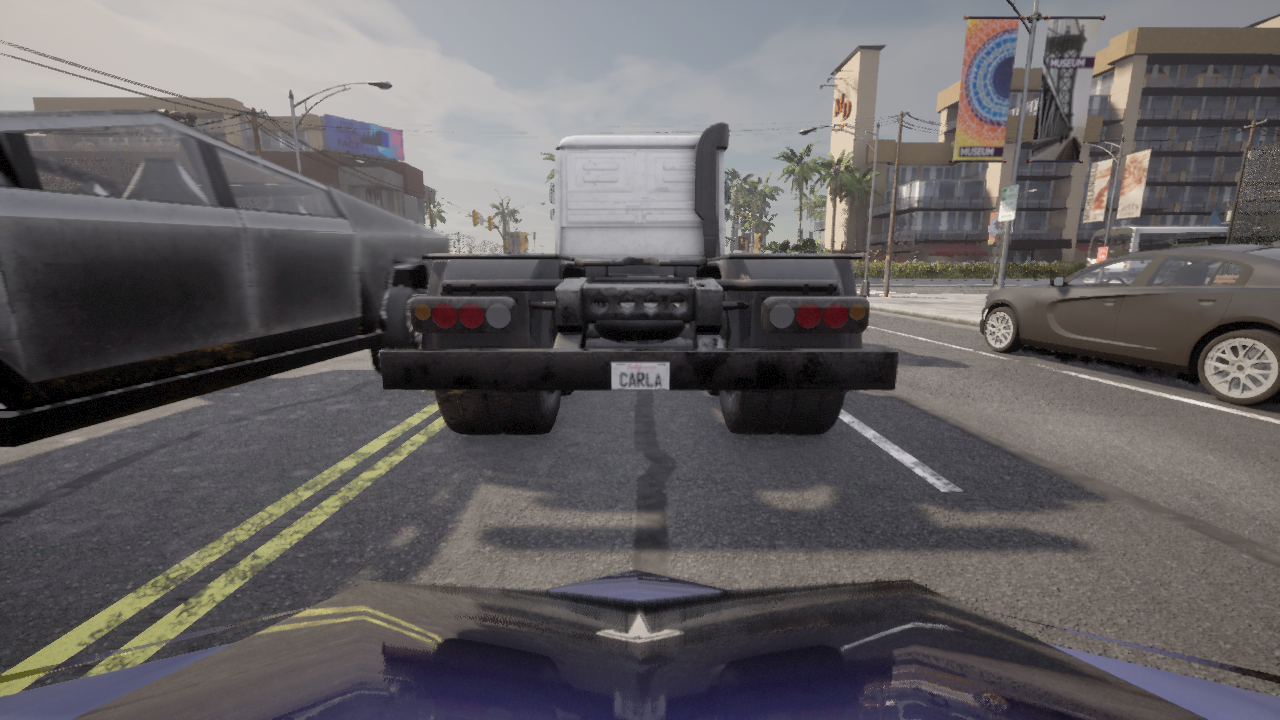cyclist: (0, 569, 1279, 719), (379, 123, 898, 434), (0, 109, 450, 447), (979, 240, 1279, 406), (1086, 225, 1278, 267)
